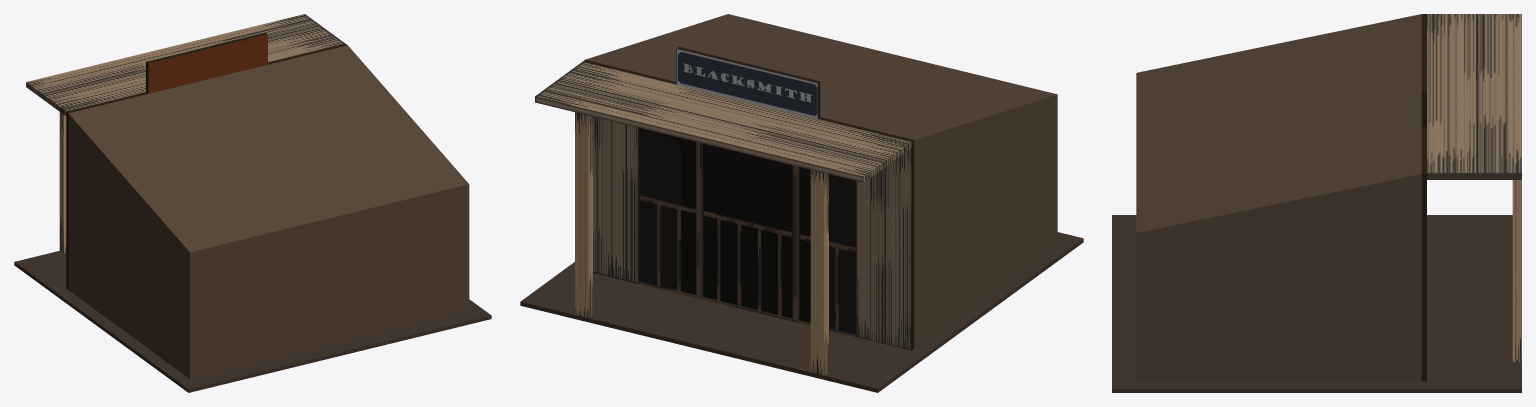
The model's file is BlackSmithWBackTex3.fbx.
3 views of the same model, side by side, from view 1: azimuth 30°, elevation 25°; view 2: azimuth 150°, elevation 25°; view 3: azimuth 270°, elevation 25° (orthographic). The views are drawn at different scales.
Visible parts, largest first — view 1: pCube12, pCube8, pCube4, pCube11; view 2: pCube8, pCube12, pCube4, pCube11; view 3: pCube12, pCube4, pCube8, pCube11.
Boxes of the visible parts, x1,y1,x2,y2 form: pCube12: (68, 45, 469, 378); pCube8: (26, 14, 347, 289); pCube4: (14, 251, 491, 392); pCube11: (59, 112, 66, 253); pCube8: (535, 47, 914, 350); pCube12: (585, 14, 1057, 348); pCube4: (520, 232, 1083, 392); pCube11: (575, 112, 828, 375); pCube12: (1136, 14, 1421, 381); pCube4: (1112, 215, 1521, 392); pCube8: (1421, 14, 1521, 381); pCube11: (1512, 180, 1521, 362).
Size of the model in its own units: 36.55 by 24.29 by 36.42.
4 materials, 1 textured.
